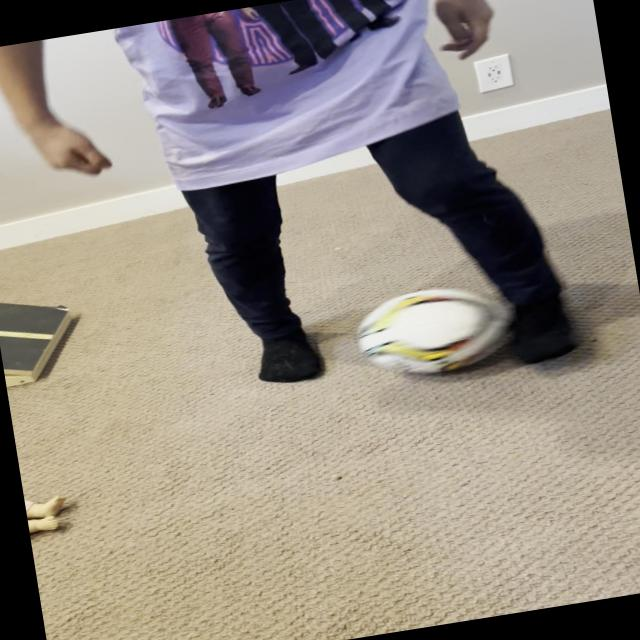Soccer Ball: (355, 277, 516, 383)
